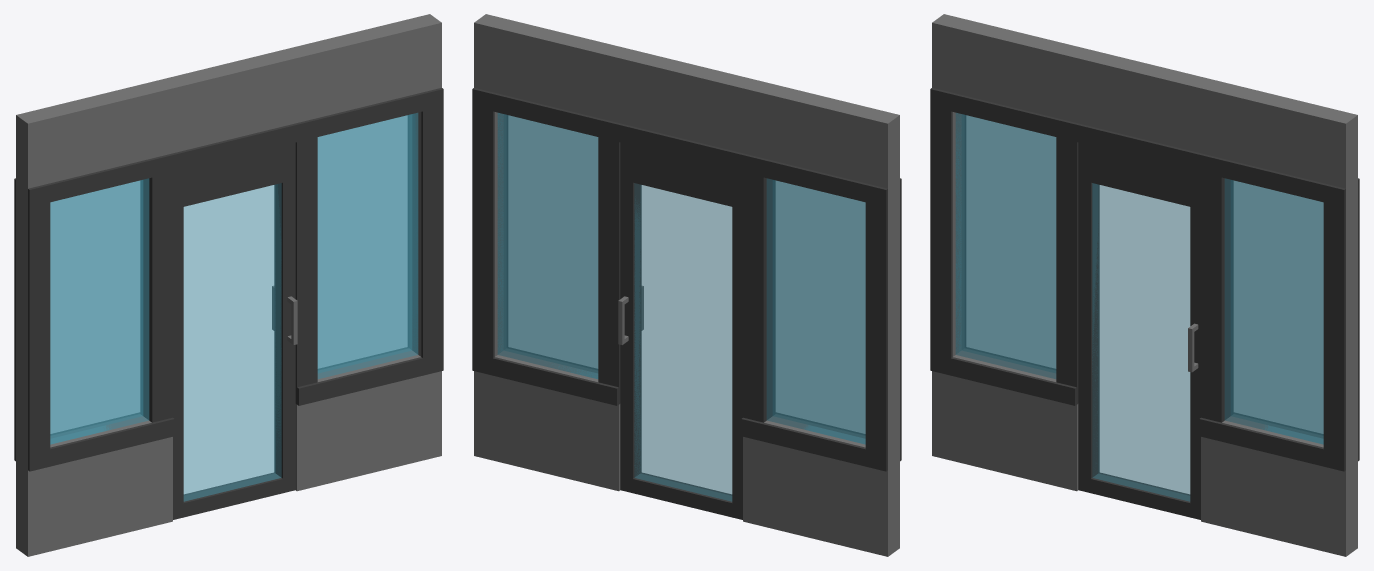
File: Doorframe.fbx
3 renders of one model, left to right at view 1: azimuth 30°, elevation 25°; view 2: azimuth 150°, elevation 25°; view 3: azimuth 330°, elevation 25°, orthographic.
Parts seen in each view (by area): view 1: Doorframe, Door; view 2: Doorframe, Door; view 3: Doorframe, Door.
Boxes of the visible parts, bbox=[...] form: Doorframe: bbox=[14, 14, 443, 556]; Door: bbox=[173, 142, 297, 519]; Doorframe: bbox=[472, 14, 901, 556]; Door: bbox=[618, 142, 742, 519]; Doorframe: bbox=[930, 14, 1359, 556]; Door: bbox=[1078, 142, 1200, 519].
Bounding box in the file's own units: 2000 × 2000 × 180.
